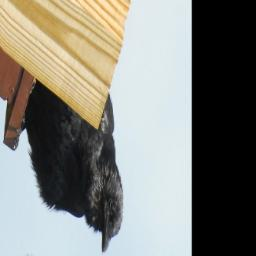Crow: (8, 25, 141, 256)
